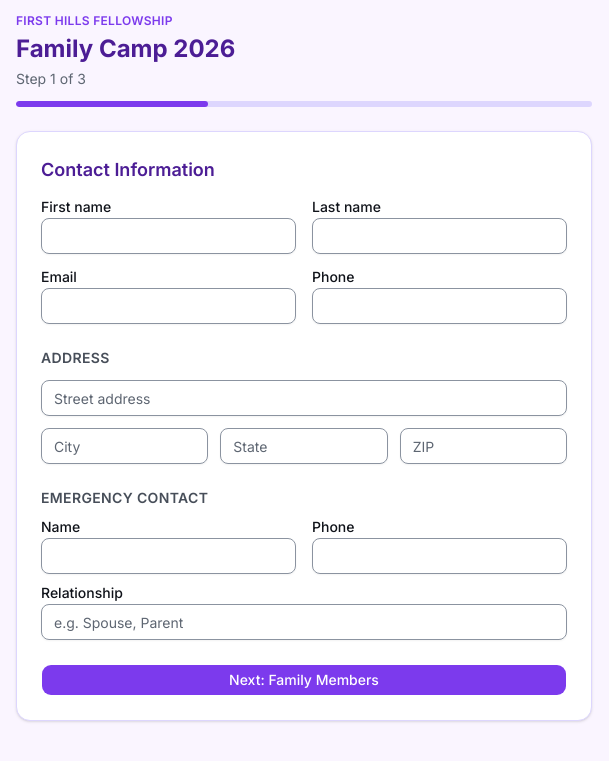
RegistrationForm › shows Step 2 after completing Step 1
Type "Jane" into the field labelled "First name". click: (168, 236)
box: [41,218,296,254]
Type "Smith" into the field labelled "Last name". click: (440, 236)
box: [312,218,567,254]
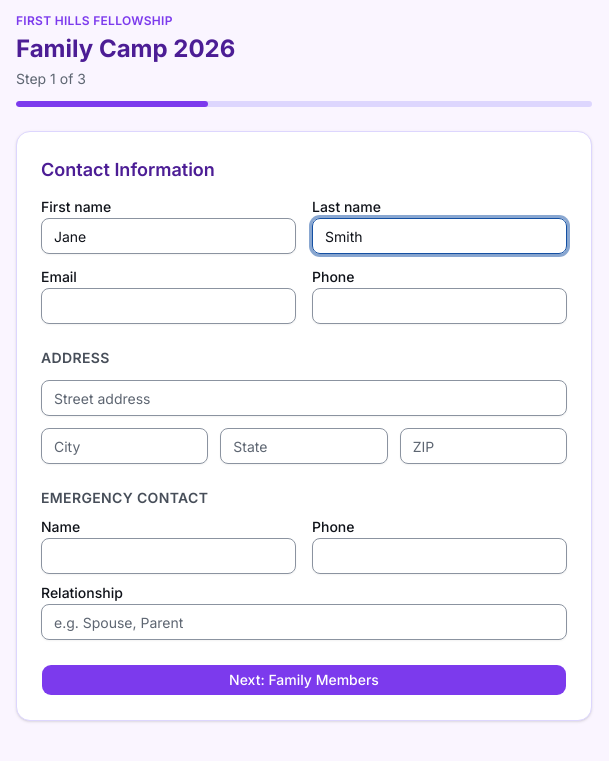
Type "jane@example.com" into the field labelled "Email". click: (168, 306)
box: [41,288,296,324]
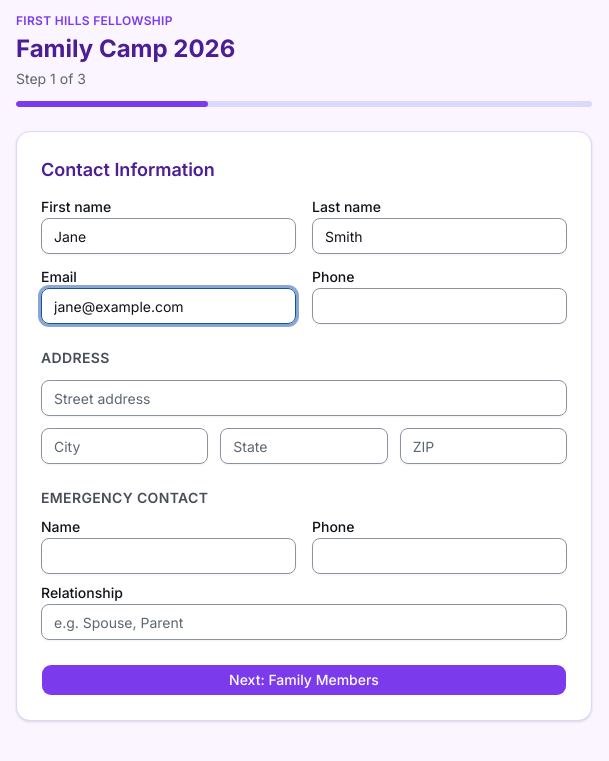
Type "555-1234" into the field labelled "Phone" below "Email". click: (440, 306)
box: [312,288,567,324]
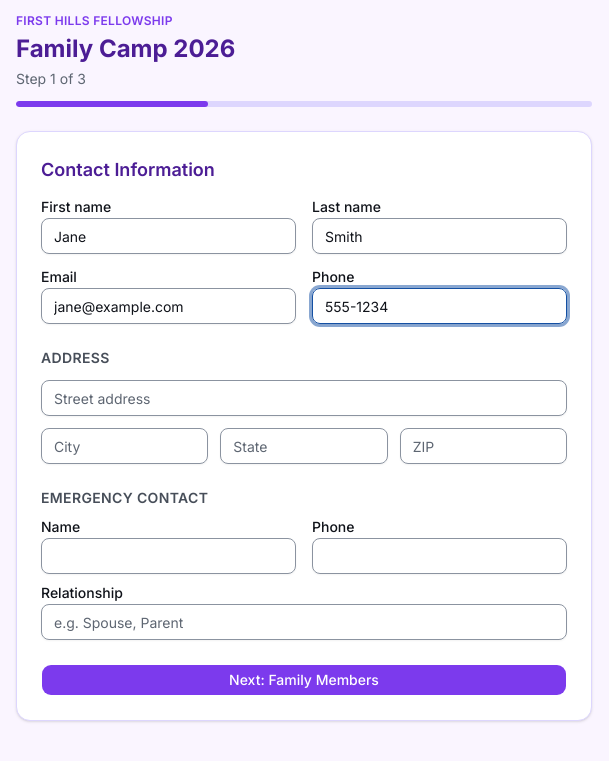
Type "Bob Smith" into the field labelled "Name". click: (168, 556)
box: [41,538,296,574]
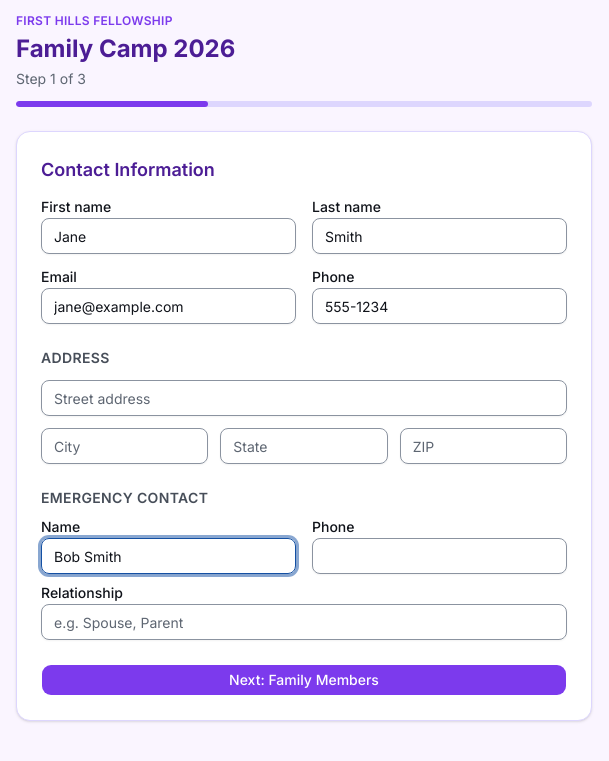
Type "555-9999" into the field labelled "Phone" below "Emergency Contact". click: (440, 556)
box: [312,538,567,574]
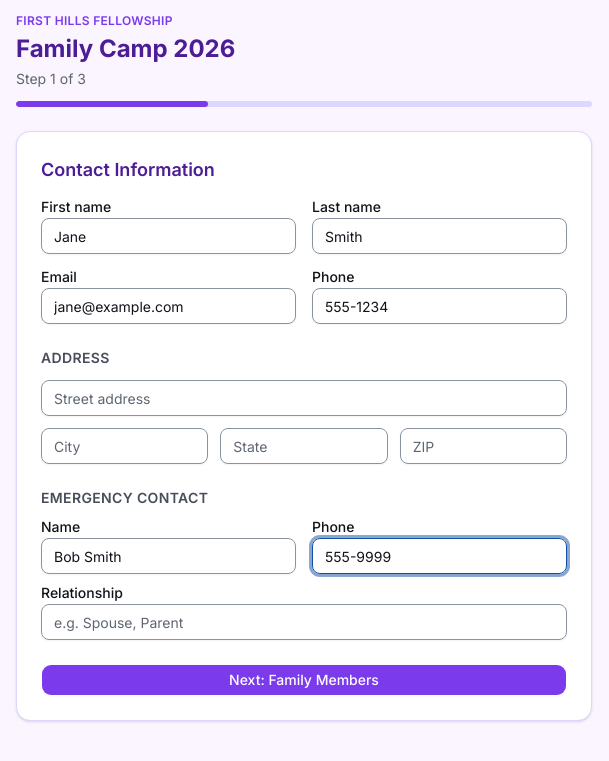
Click the button "Next: Family Members". click: (304, 680)
box: [41,664,567,696]
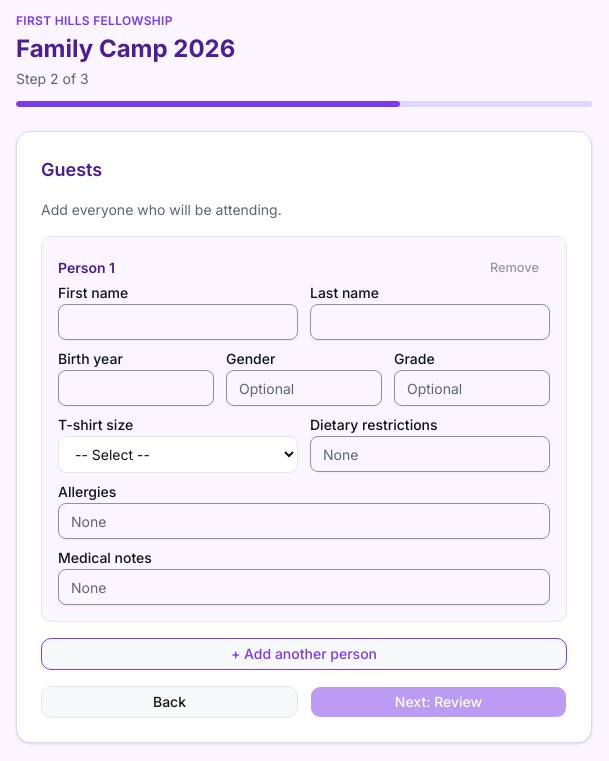
Now the text "Step 2 of 3" is shown, box [16,70,89,87]
Now the heading "Guests" is shown, box [41,159,102,180]
